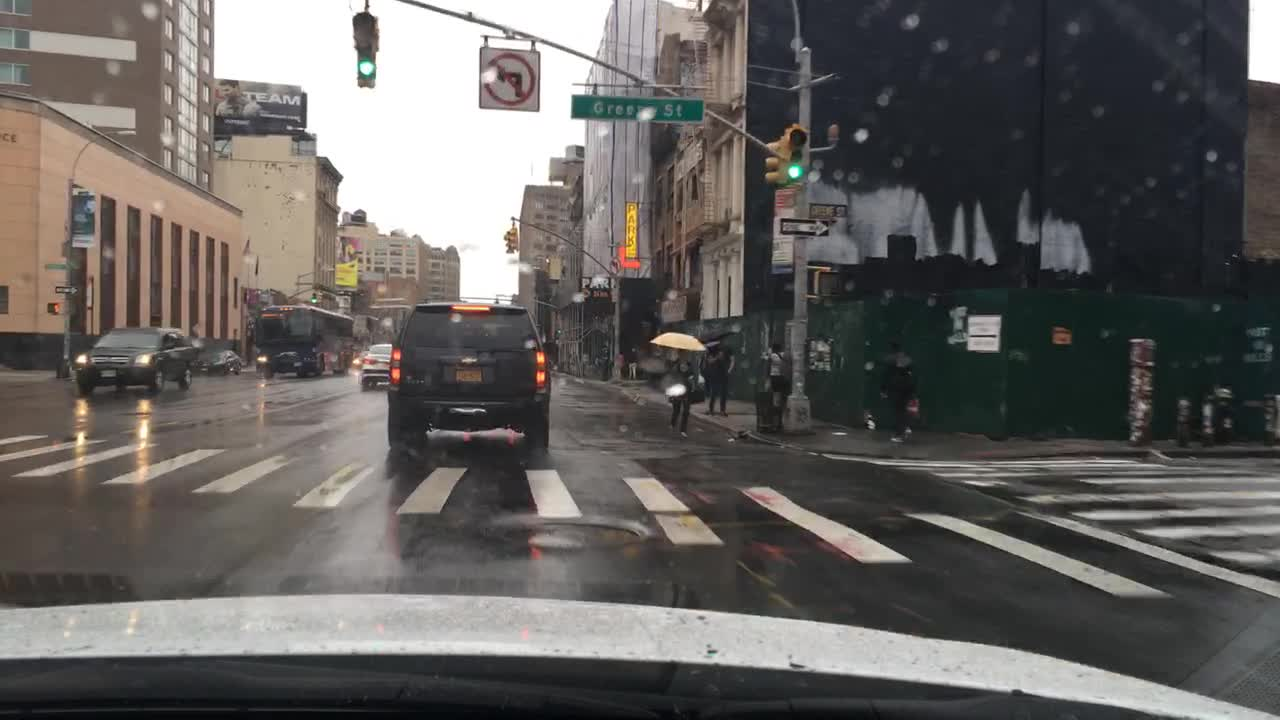bus: (253, 302, 354, 376)
car: (386, 295, 553, 452), (72, 326, 196, 396), (360, 342, 393, 389), (192, 346, 243, 376), (352, 348, 369, 369)
person: (881, 342, 918, 441), (665, 345, 692, 436), (706, 336, 736, 415), (764, 341, 790, 411), (614, 348, 627, 376), (628, 346, 639, 379)
traffic light: (353, 11, 378, 88), (781, 123, 809, 182), (764, 138, 788, 186), (811, 270, 839, 298), (502, 228, 520, 253), (45, 300, 62, 316), (308, 288, 317, 306), (315, 290, 322, 307), (554, 326, 563, 336)
traffic sign: (568, 93, 706, 126), (478, 45, 539, 113), (778, 216, 828, 236), (807, 202, 848, 220), (774, 188, 797, 218), (606, 255, 621, 275), (42, 261, 64, 271), (54, 284, 74, 295), (605, 239, 618, 248)
